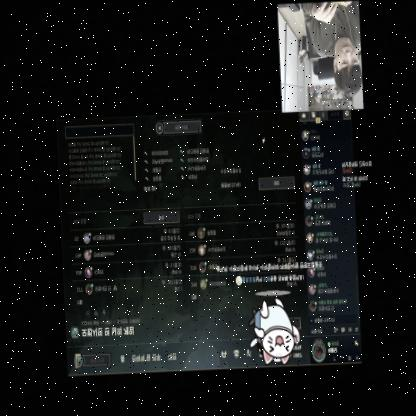donation: (212, 261, 327, 371)
streamer: (302, 5, 362, 103)
